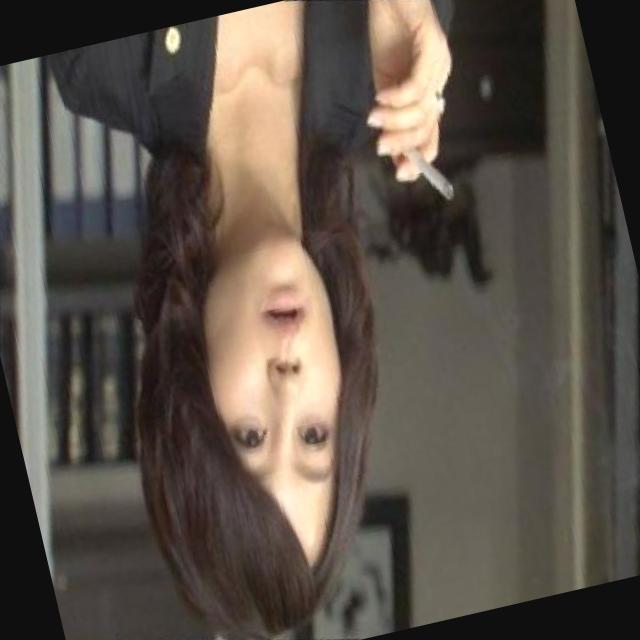smoke: (393, 132, 468, 212)
